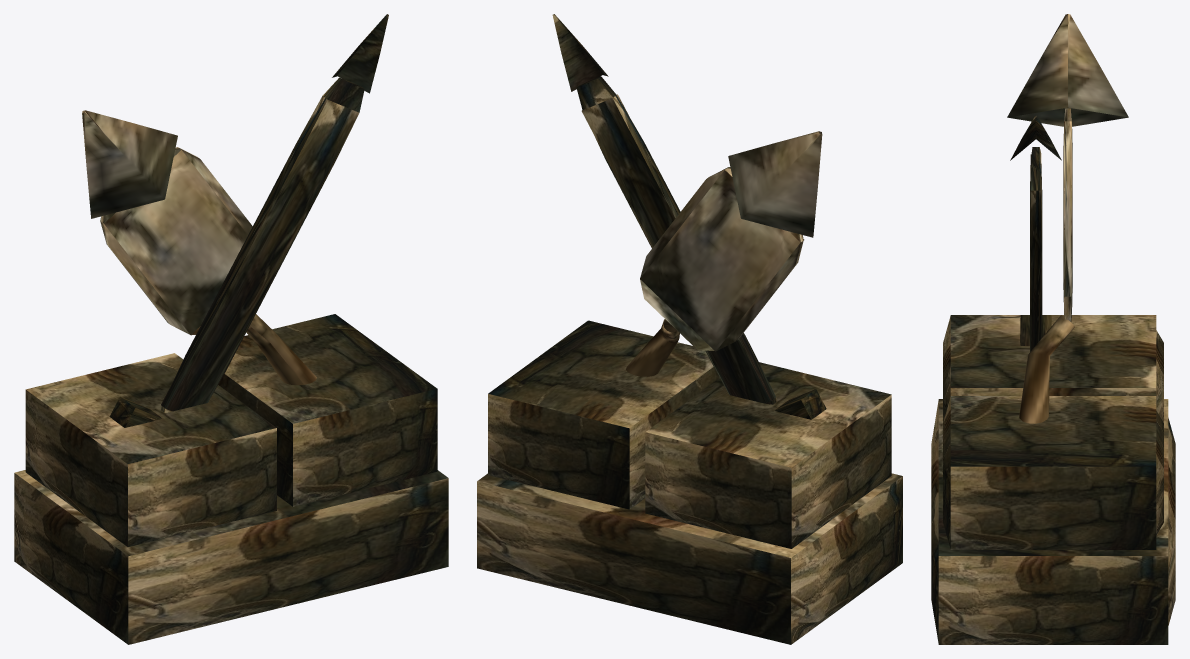
File: trowel-and-sword.glb
3 views of the same model, side by side, from view 1: azimuth 30°, elevation 25°; view 2: azimuth 150°, elevation 25°; view 3: azimuth 270°, elevation 25° (orthographic). The views are drawn at different scales.
Parts seen in each view (by area): view 1: HeroRelicMonument; view 2: HeroRelicMonument; view 3: HeroRelicMonument.
Part boxes in pixels (<box>): HeroRelicMonument: <box>14,14,448,644</box>; HeroRelicMonument: <box>477,14,902,644</box>; HeroRelicMonument: <box>931,14,1175,644</box>.
Bounding box in the file's own units: 1.36 × 2 × 0.8401.
Materials: 1 (1 with a texture image).
